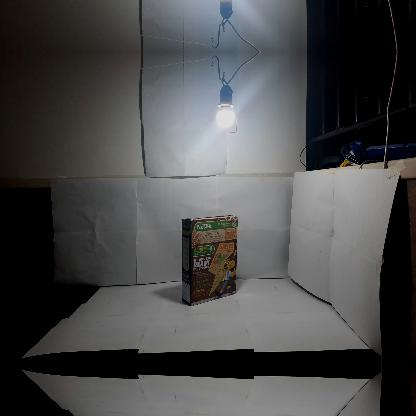Koko-Krunch: (182, 214, 238, 306)
